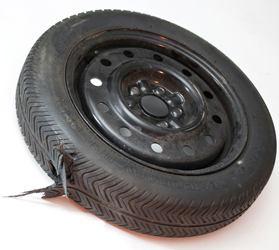tire: (15, 10, 278, 239)
